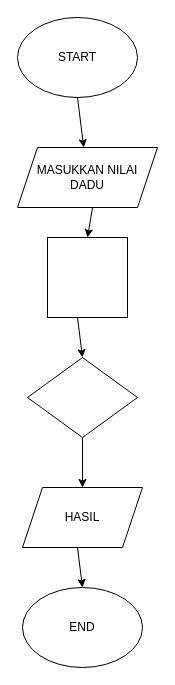
Some shapes in this 175 by 685 pixel diagram are drawn without their labels. The box of each missing label's shape, as (x1, y1, x2, y2) in pixels:
MASUKKAN RUMUS: (46, 236, 128, 318)
PERHITUNGAN: (26, 356, 138, 438)
